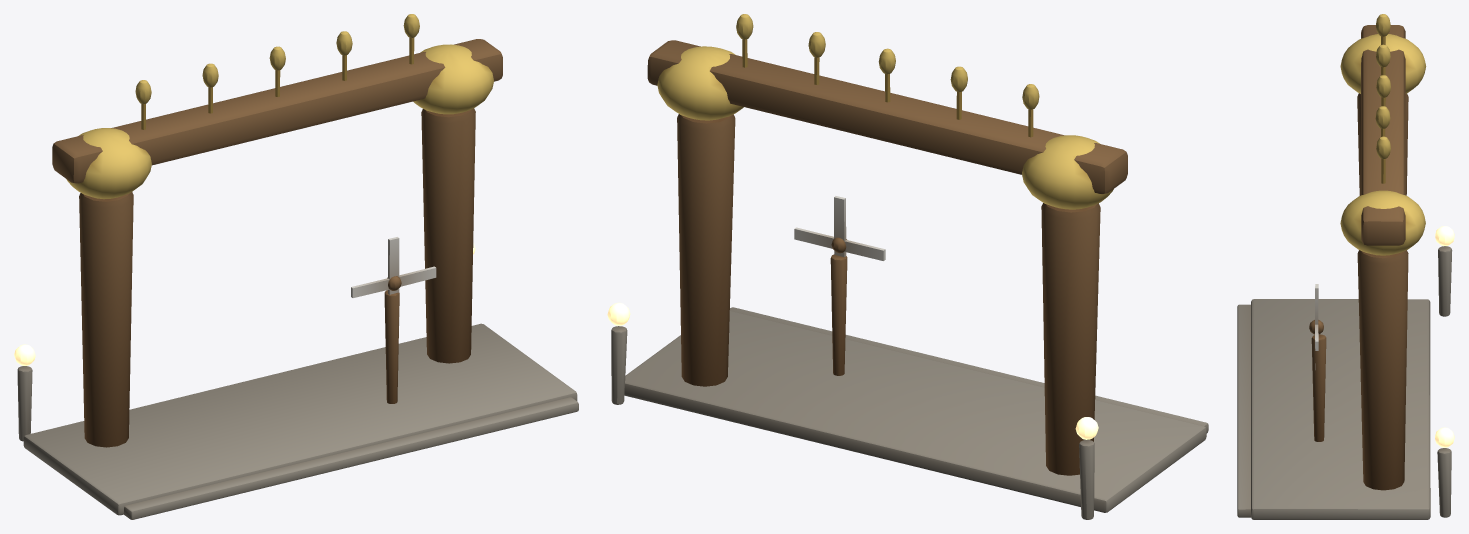
3 views of the same model, side by side, from view 1: azimuth 30°, elevation 25°; view 2: azimuth 150°, elevation 25°; view 3: azimuth 270°, elevation 25° (orthographic). The views are drawn at different scales.
Parts seen in each view (by area): view 1: gate_3beca55d; view 2: gate_3beca55d; view 3: gate_3beca55d.
Boxes of the visible parts, left/top/right/bottom form: gate_3beca55d: left=14, top=14, right=578, bottom=519; gate_3beca55d: left=607, top=14, right=1208, bottom=519; gate_3beca55d: left=1237, top=14, right=1454, bottom=519.
Size of the model in its own units: 5.84 by 4.4 by 2.55.
